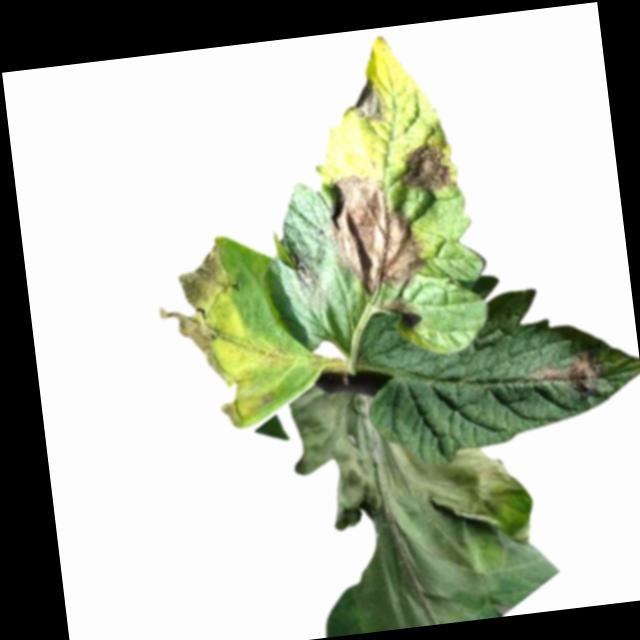Late_blight: (252, 369, 540, 600), (150, 230, 297, 430), (323, 167, 427, 302), (283, 233, 329, 313), (532, 350, 603, 400), (395, 138, 453, 196), (353, 78, 389, 128), (386, 295, 413, 315)
